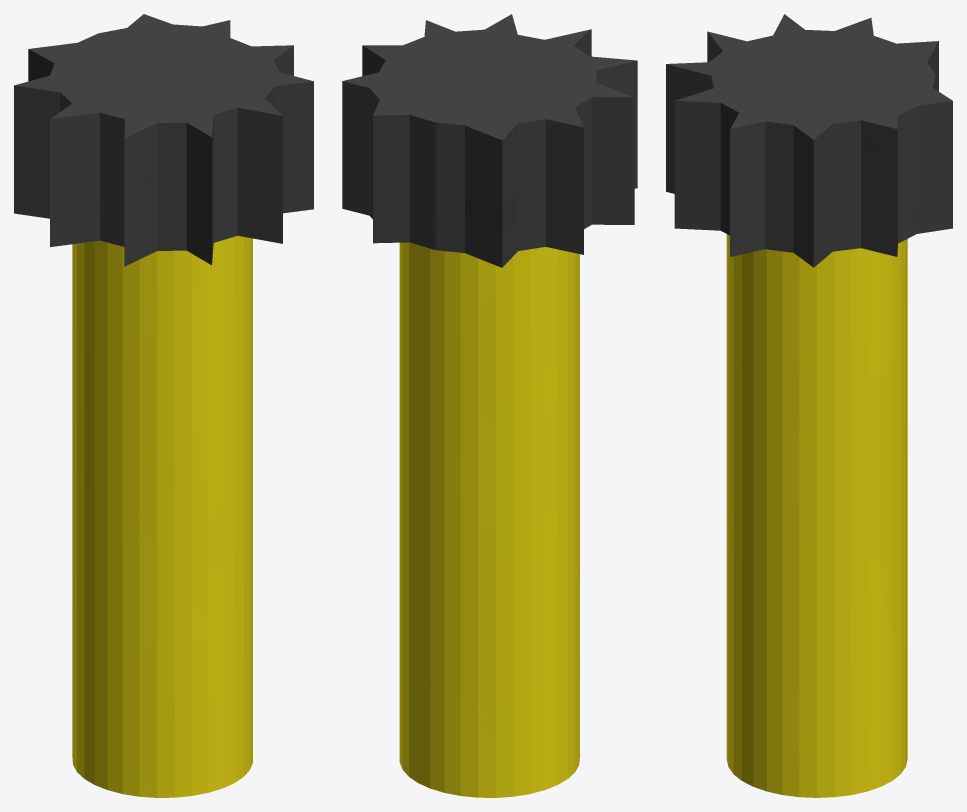
Rendered from PERILLA02.obj.
3 views of the same model, side by side, from view 1: azimuth 30°, elevation 25°; view 2: azimuth 150°, elevation 25°; view 3: azimuth 270°, elevation 25° (orthographic).
Visible parts, largest first — view 1: Cylinder.003; view 2: Cylinder.003; view 3: Cylinder.003.
Part boxes in pixels (x1=…): Cylinder.003: x1=14, y1=14, x2=313, y2=797; Cylinder.003: x1=342, y1=14, x2=637, y2=797; Cylinder.003: x1=666, y1=14, x2=952, y2=797.
Size of the model in its own units: 0.1192 by 0.3012 by 0.1146.
Materials: 1 (1 with a texture image).
